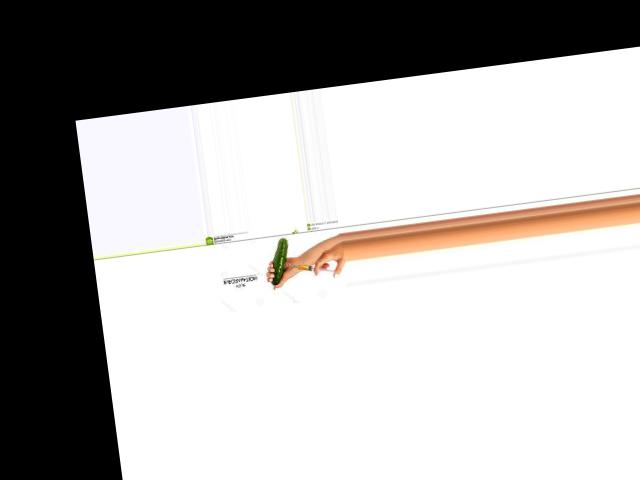cucumber: (266, 237, 293, 285)
